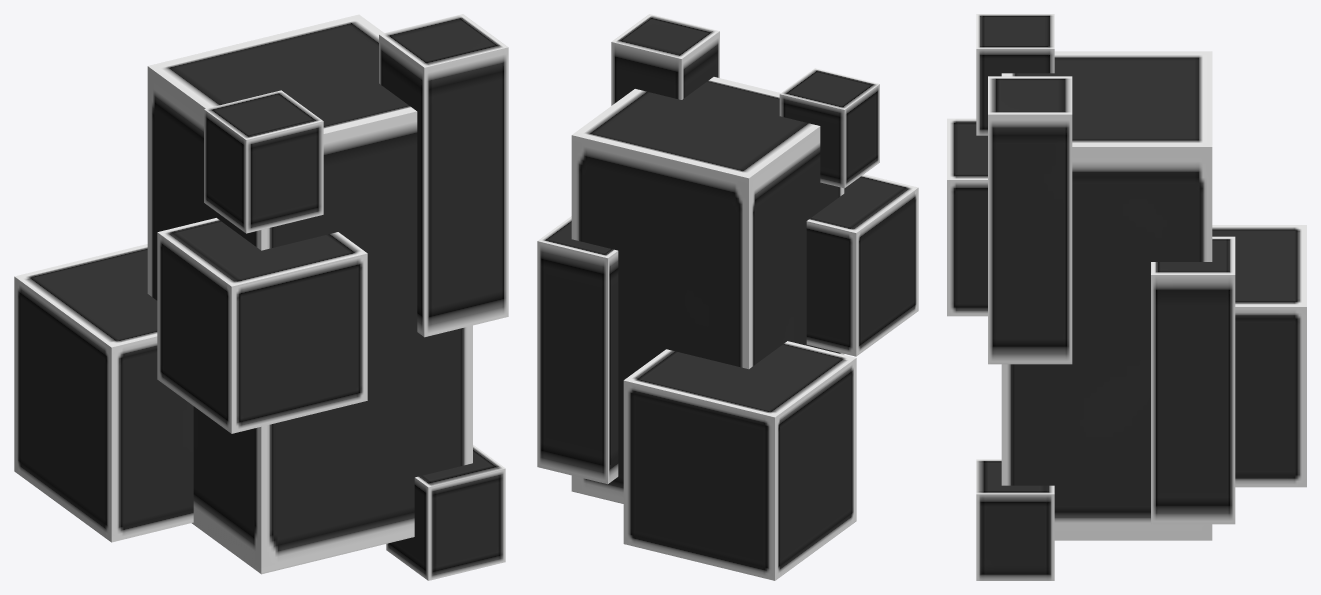
File: GROUPBOX2.FBX
3 renders of one model, left to right at view 1: azimuth 30°, elevation 25°; view 2: azimuth 150°, elevation 25°; view 3: azimuth 270°, elevation 25°, orthographic. The views are drawn at different scales.
Visible parts, largest first — view 1: GROUPBOX2; view 2: GROUPBOX2; view 3: GROUPBOX2.
Boxes of the visible parts, x1,y1,x2,y2 form: GROUPBOX2: (14, 14, 508, 580); GROUPBOX2: (537, 14, 918, 580); GROUPBOX2: (947, 14, 1306, 580).
Size of the model in its own units: 232 by 350 by 243.
